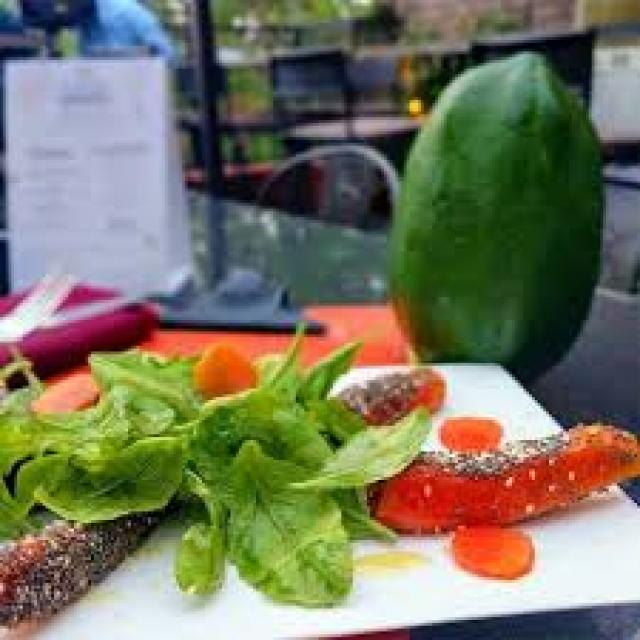organic waste: (3, 328, 427, 603), (390, 49, 600, 380), (364, 417, 637, 532), (222, 437, 353, 603), (0, 508, 165, 628), (0, 383, 168, 460), (20, 434, 179, 514), (296, 403, 432, 494), (80, 343, 194, 420), (449, 517, 535, 574), (193, 343, 262, 388), (438, 411, 501, 446)
